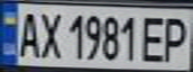1: (118, 12, 142, 62), (63, 10, 84, 60)
8: (100, 11, 121, 62)
9: (81, 11, 103, 61)
A: (12, 7, 42, 58)
E: (139, 12, 172, 63)
P: (157, 12, 193, 63)
X: (36, 8, 63, 60)
